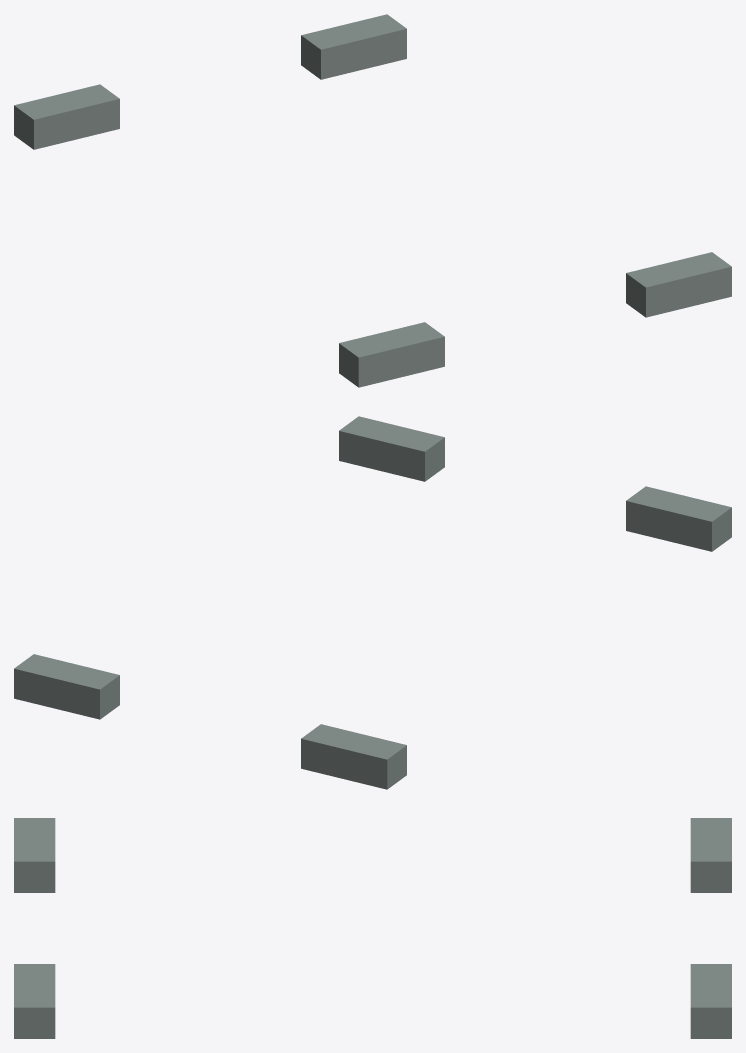
The model's file is DoorHandles.glb.
The picture shows the model from 3 angles, top to bottom: view 1: azimuth 30°, elevation 25°; view 2: azimuth 150°, elevation 25°; view 3: azimuth 270°, elevation 25°; orthographic projection. The views are drawn at different scales.
Visible parts, largest first — view 1: Cube.039; view 2: Cube.039; view 3: Cube.039.
Part boxes in pixels (x1=…): Cube.039: x1=14, y1=14, x2=731, y2=387; Cube.039: x1=14, y1=416, x2=731, y2=789; Cube.039: x1=14, y1=818, x2=731, y2=1038.
Bounding box in the file's own units: 0.0419 × 0.00323 × 0.0671.
1 material, 1 textured.
